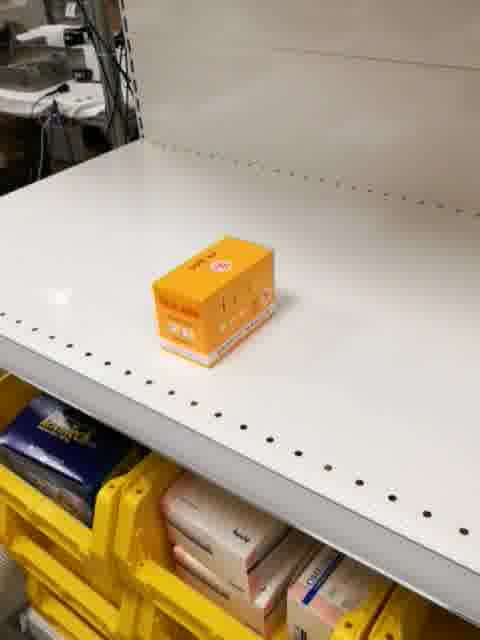jasminetea: (153, 234, 276, 369)
